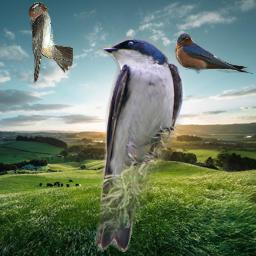Swallow: (92, 36, 185, 252), (28, 2, 73, 84), (174, 33, 255, 75)
